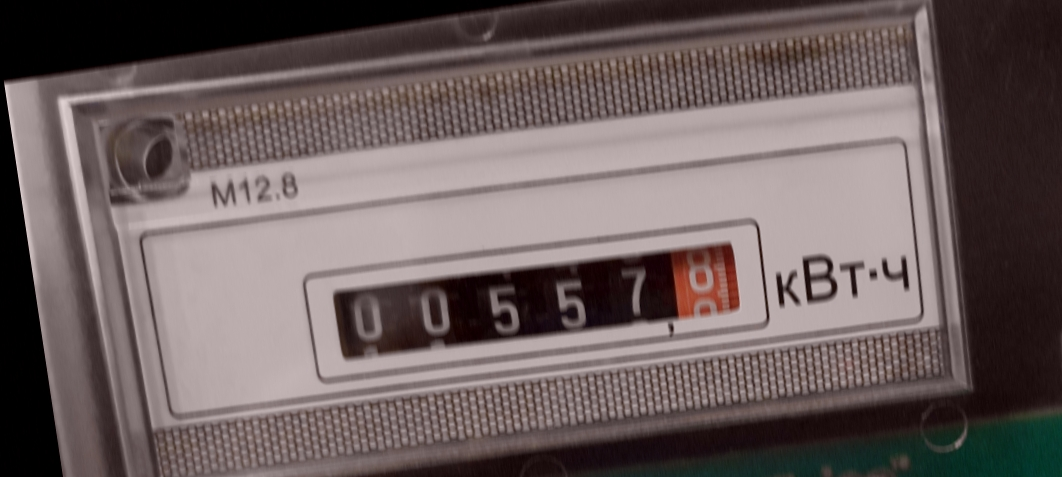0: (343, 286, 386, 347), (411, 282, 452, 338)
5: (546, 270, 591, 334), (480, 278, 522, 339)
7: (611, 261, 651, 320)
8: (680, 244, 715, 297)
screen: (293, 199, 776, 398)
